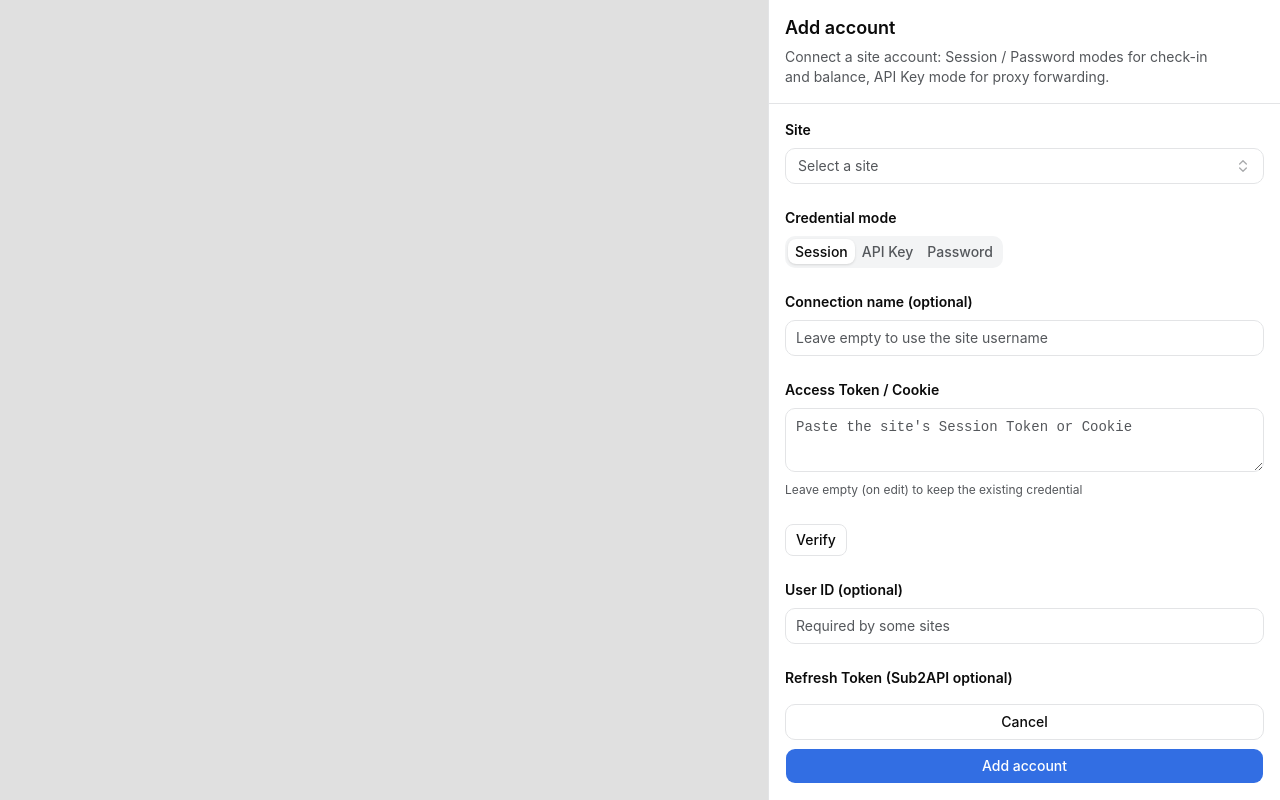
Test: AccountFormDialog searchable site selector › filters 30+ local sites by name
Click the dropdown labelled "site" at (838, 165), box [785, 148, 1264, 184]
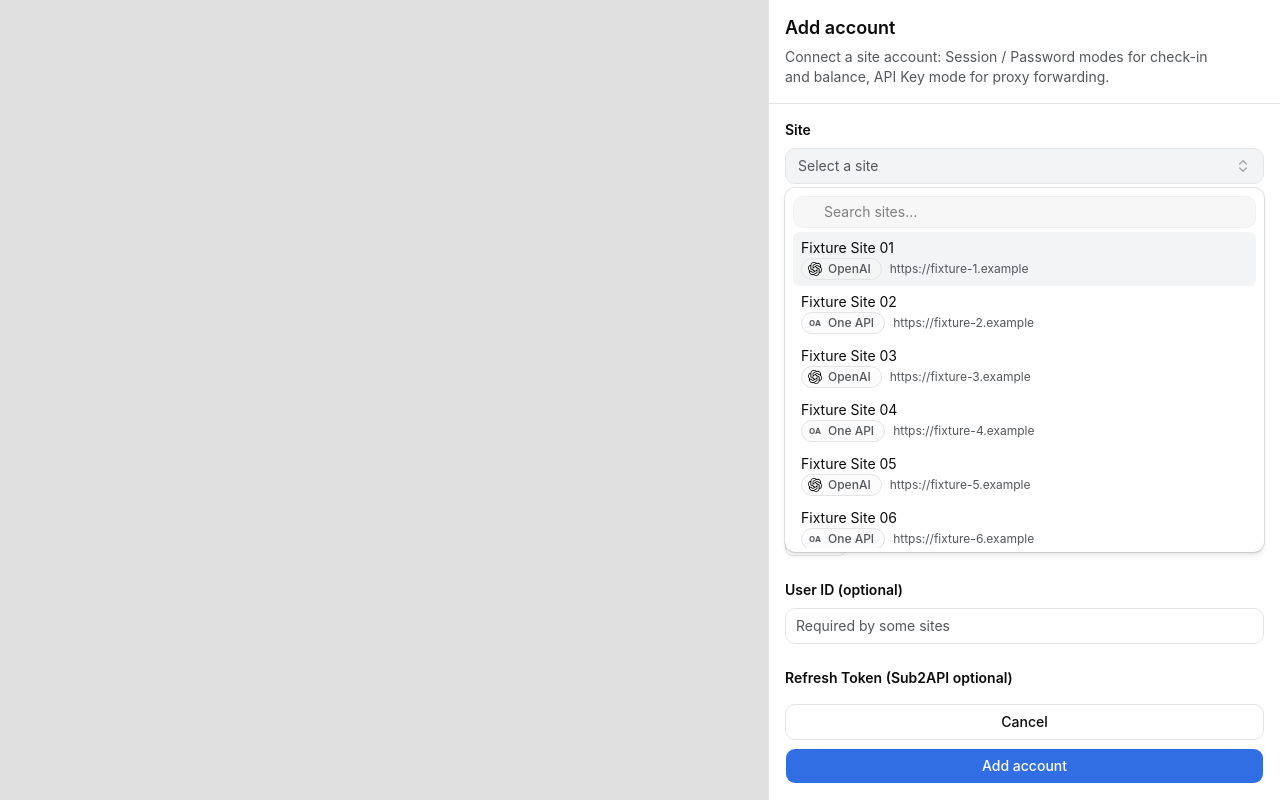
Type "Aurora Gateway" into the dropdown with placeholder "Search sites…" at (1036, 212), box [818, 202, 1255, 222]
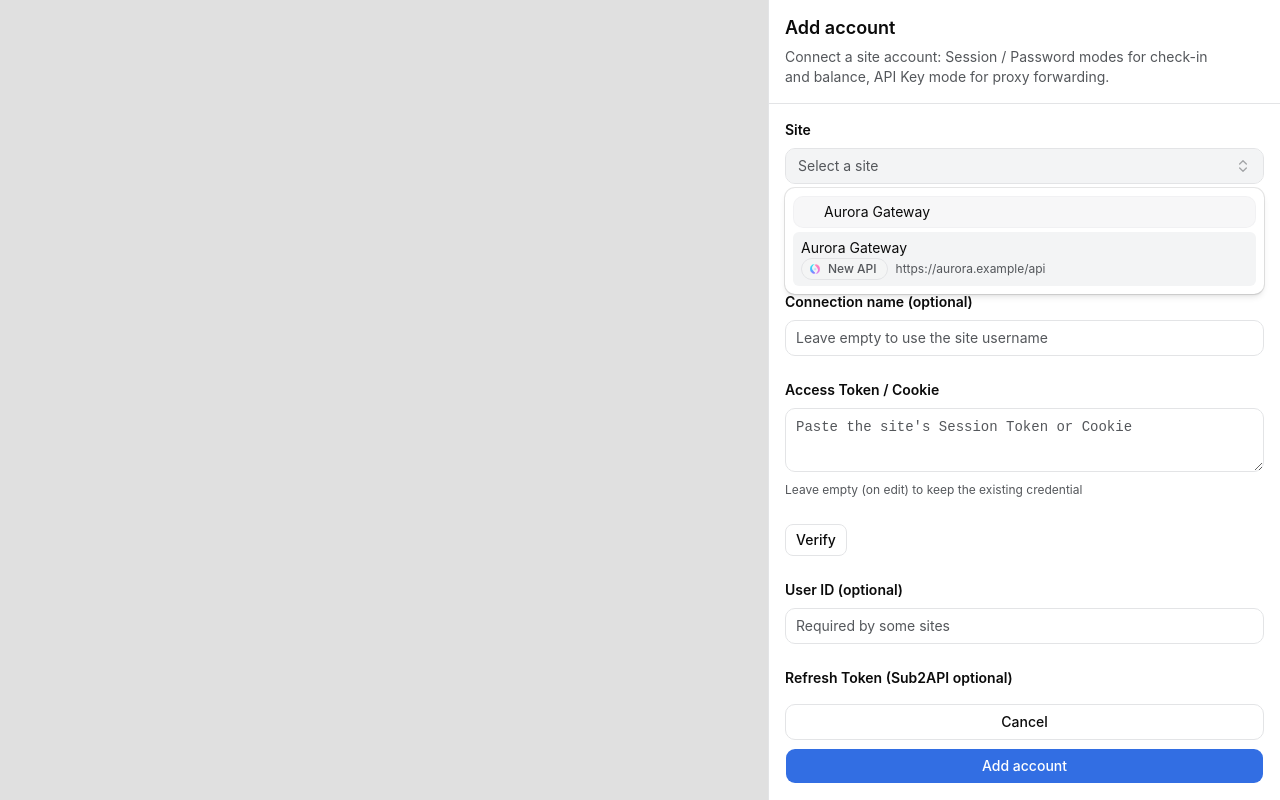
Now the option "Aurora Gateway New API https://aurora.example/api" is shown, box [793, 232, 1256, 286]
Now the option "Fixture Site 01" is gone
